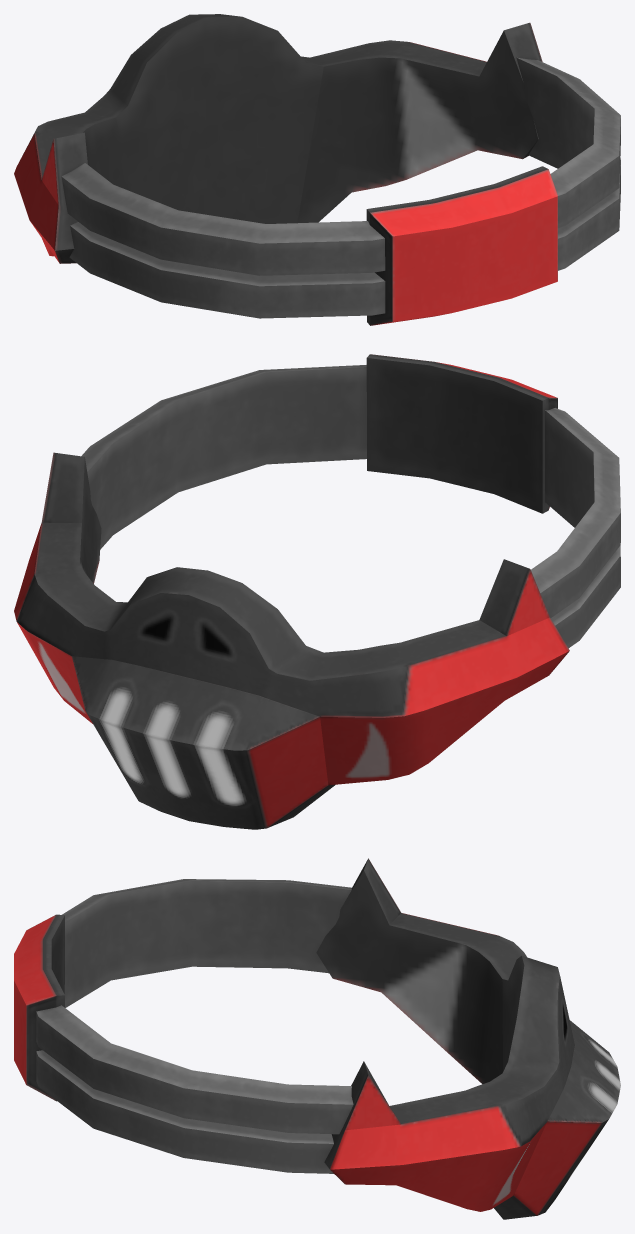
The model's file is IG_Helmat_Igny.fbx.
The picture shows the model from 3 angles, top to bottom: view 1: azimuth 30°, elevation 25°; view 2: azimuth 150°, elevation 25°; view 3: azimuth 270°, elevation 25°; orthographic projection. The views are drawn at different scales.
Visible parts, largest first — view 1: Helmets_TwinsBoss; view 2: Helmets_TwinsBoss; view 3: Helmets_TwinsBoss.
Boxes of the visible parts, x1,y1,x2,y2 form: Helmets_TwinsBoss: (14,14,620,325); Helmets_TwinsBoss: (14,354,620,829); Helmets_TwinsBoss: (14,858,620,1219).
Bounding box in the file's own units: 0.5637 × 0.2599 × 0.6173.
